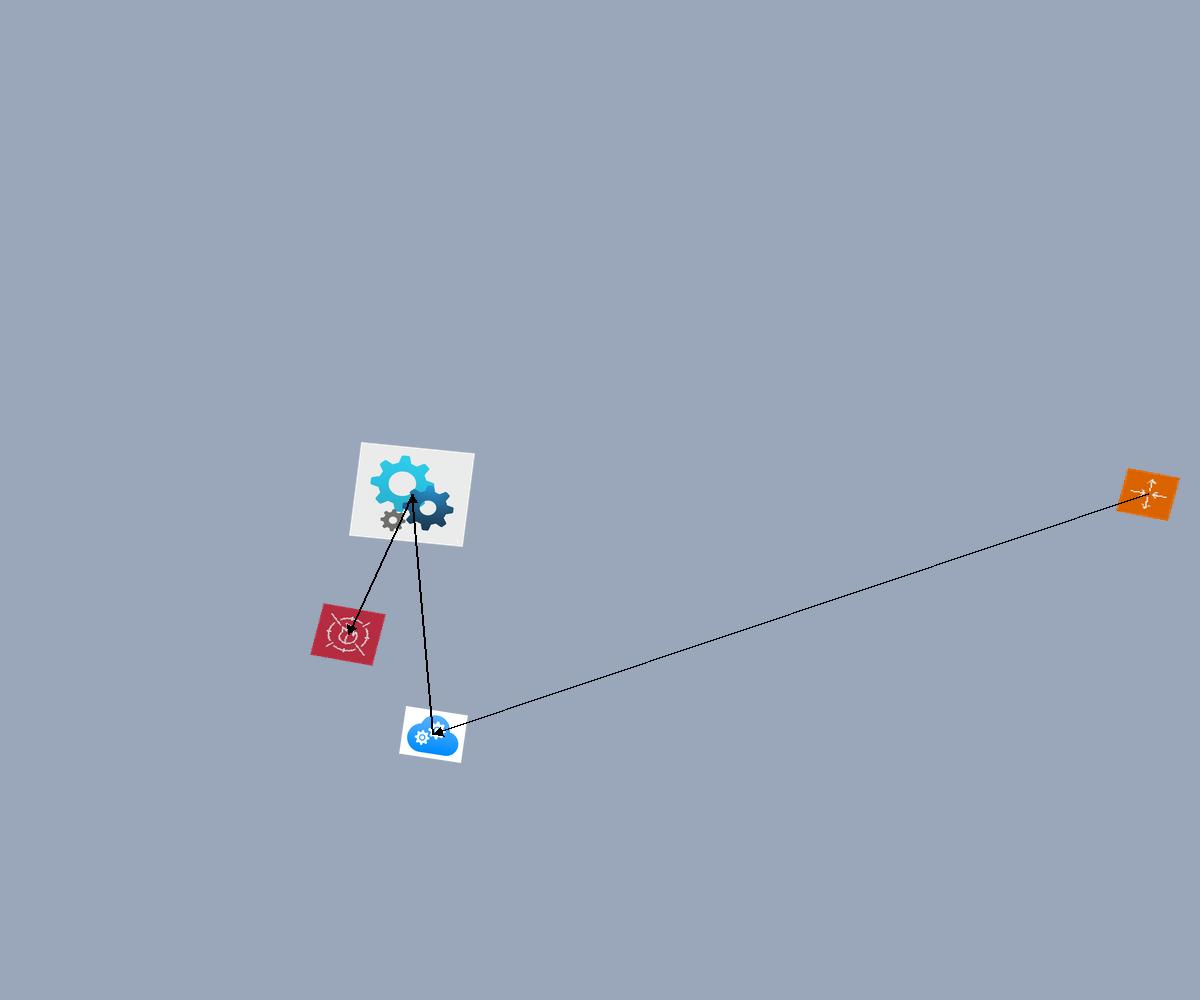AWS-Scaling-group: (1116, 468, 1180, 521)
AWS-WAF: (310, 603, 386, 666)
Azure_api: (349, 442, 475, 547)
Azure_cloud_services: (399, 706, 468, 763)
